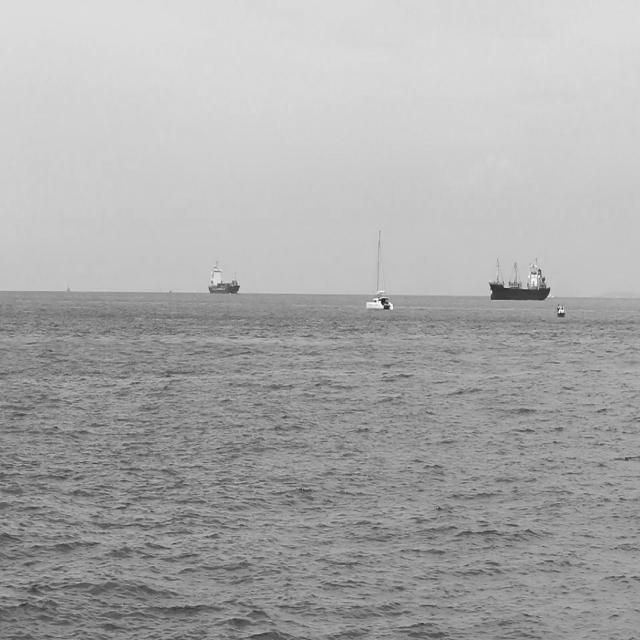boat: (365, 229, 394, 312)
ship: (489, 256, 551, 300), (207, 260, 240, 294), (556, 301, 566, 317)
